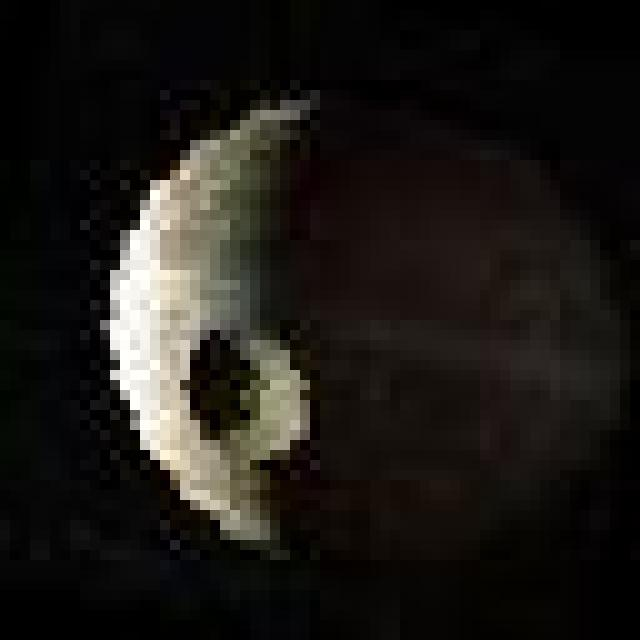Death Star: (90, 79, 608, 560)
